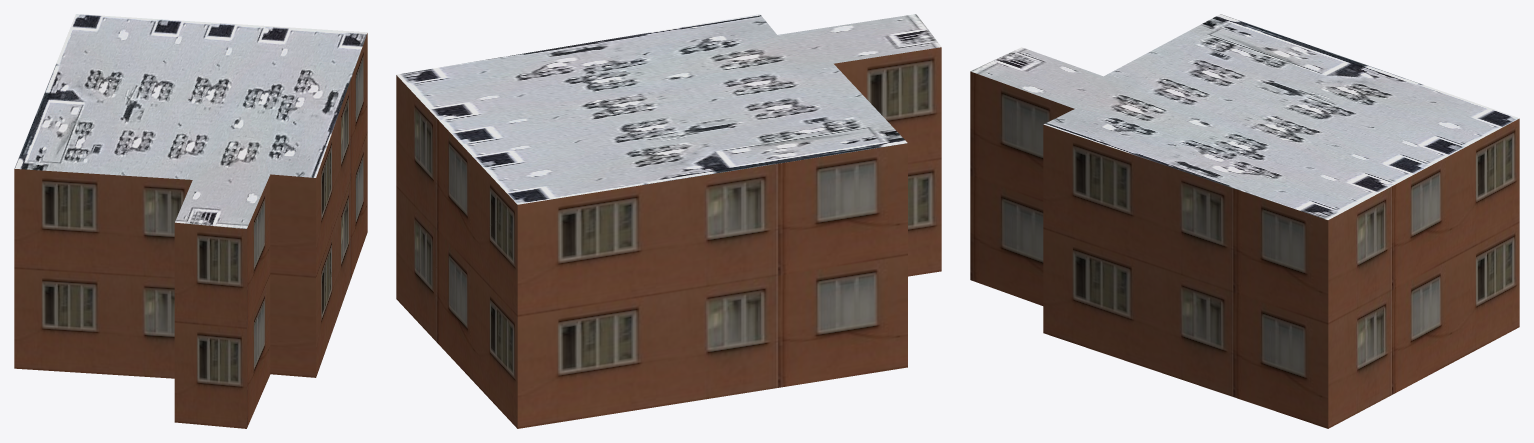
The model's file is ResTex__2922.fbx.
3 views of the same model, side by side, from view 1: azimuth 30°, elevation 25°; view 2: azimuth 150°, elevation 25°; view 3: azimuth 270°, elevation 25° (orthographic). The views are drawn at different scales.
Visible parts, largest first — view 1: CityEngineMaterial_20_m, CityEngineMaterial_4_m; view 2: CityEngineMaterial_20_m, CityEngineMaterial_4_m; view 3: CityEngineMaterial_20_m, CityEngineMaterial_4_m.
Boxes of the visible parts, left/top/right/bottom form: CityEngineMaterial_20_m: left=14, top=33, right=367, bottom=428; CityEngineMaterial_4_m: left=14, top=14, right=367, bottom=228; CityEngineMaterial_20_m: left=396, top=47, right=941, bottom=428; CityEngineMaterial_4_m: left=396, top=14, right=941, bottom=204; CityEngineMaterial_20_m: left=970, top=71, right=1519, bottom=428; CityEngineMaterial_4_m: left=970, top=14, right=1519, bottom=219.
Size of the model in its own units: 12.72 by 6 by 14.32.
Materials: 2 (2 with a texture image).
